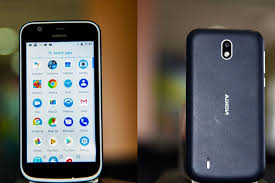nokia: (16, 19, 106, 180), (184, 26, 268, 183)
